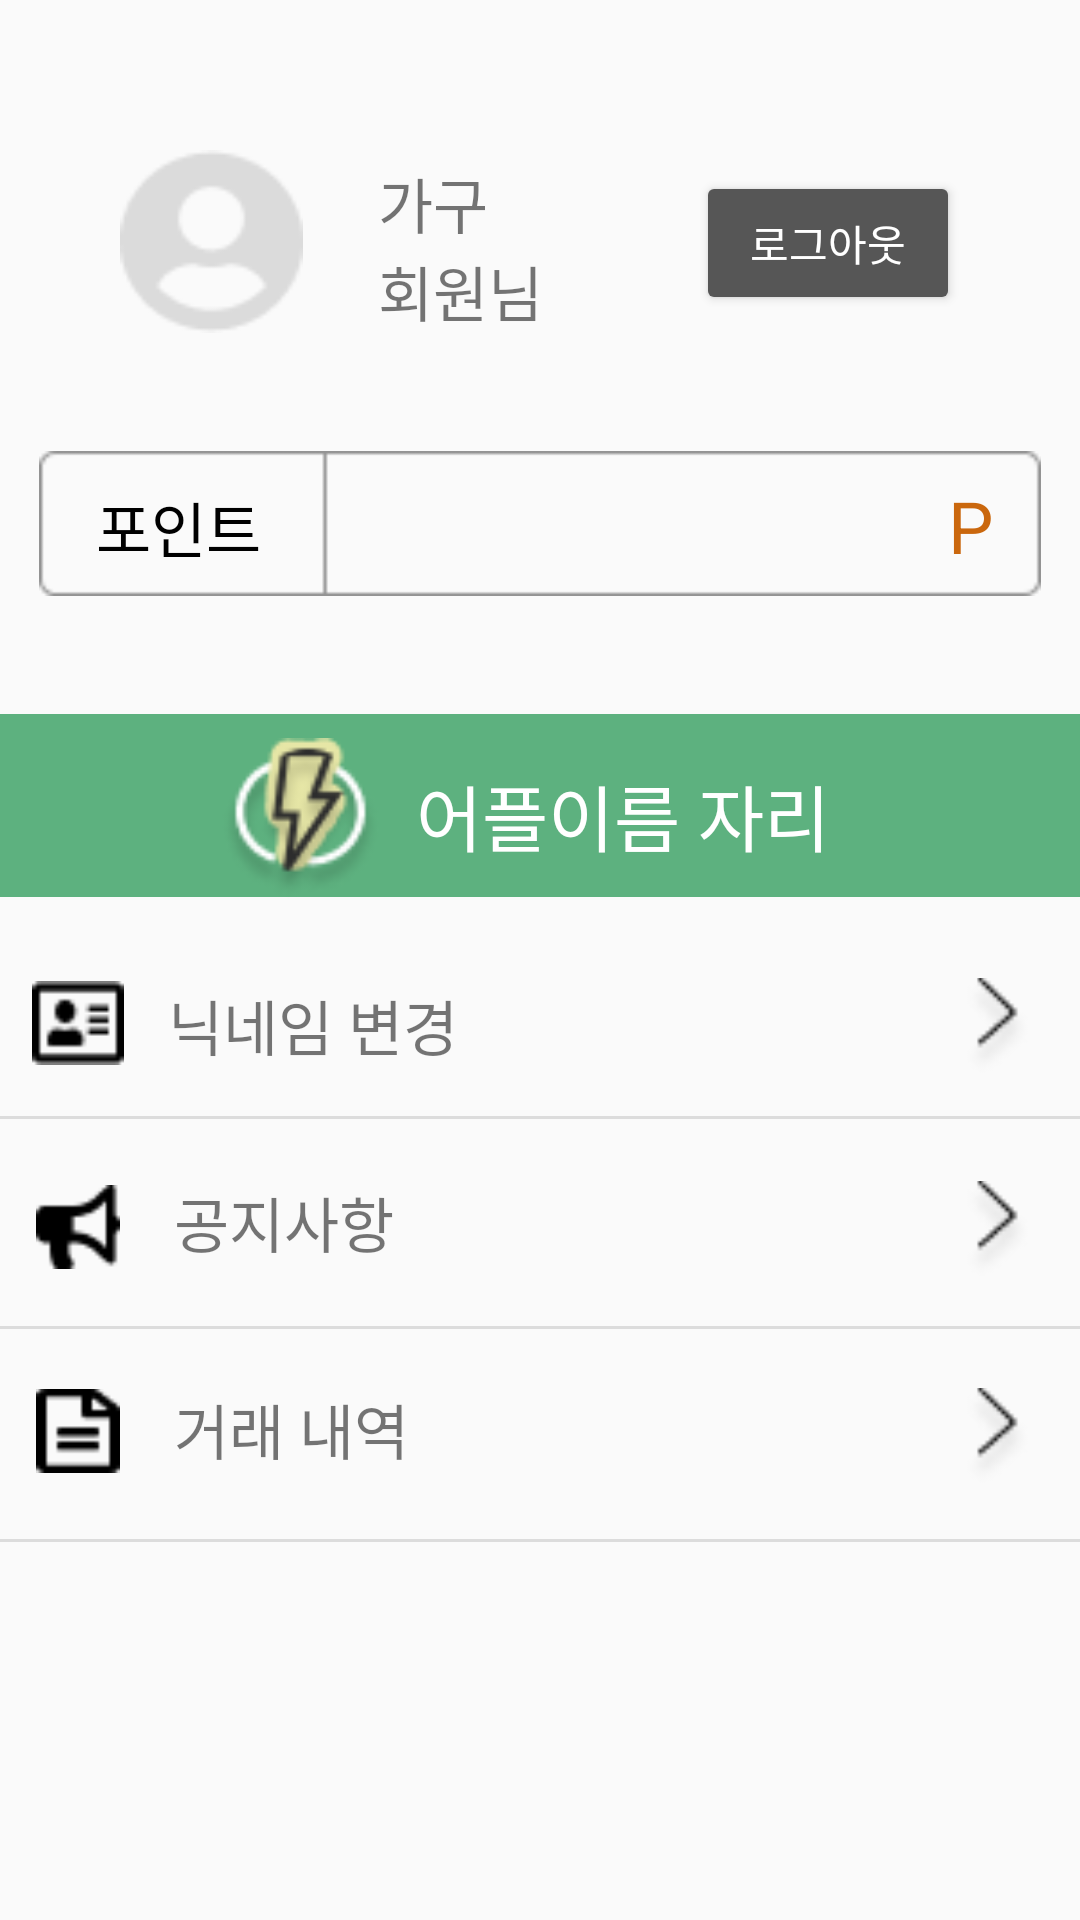

Locate icon controls on the screen. Image size 1080px x 1920px, boxes as (x1, y1, x2, y2).
history: (36, 1389, 120, 1473)
mypage narrow: (977, 978, 1018, 1047), (977, 1181, 1018, 1250), (977, 1388, 1018, 1457)
mypage profile: (120, 154, 303, 329)
nickname: (32, 981, 124, 1065)
